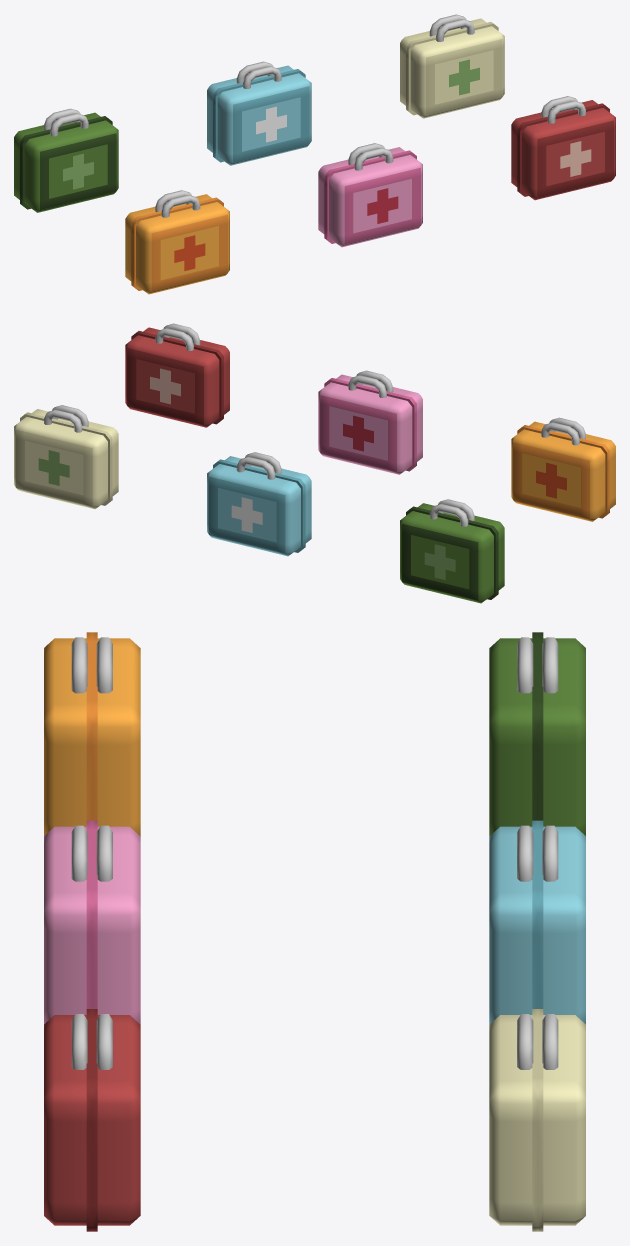
File: medkits.fbx
3 renders of one model, top to bottom at view 1: azimuth 30°, elevation 25°; view 2: azimuth 150°, elevation 25°; view 3: azimuth 270°, elevation 25°, orthographic. The views are drawn at different scales.
Parts seen in each view (by area): view 1: Medkit-Oxygen, Medkit-Burn, Medkit-Advanced, Medkit, Medkit-Brute, Medkit-Toxin; view 2: Medkit-Brute, Medkit, Medkit-Toxin, Medkit-Oxygen, Medkit-Advanced, Medkit-Burn; view 3: Medkit, Medkit-Advanced, Medkit-Oxygen, Medkit-Brute, Medkit-Toxin, Medkit-Burn.
Part boxes in pixels (x1=…): Medkit-Oxygen: x1=207, y1=61, x2=311, y2=165; Medkit-Burn: x1=125, y1=190, x2=229, y2=294; Medkit-Advanced: x1=511, y1=96, x2=615, y2=200; Medkit: x1=400, y1=14, x2=504, y2=118; Medkit-Brute: x1=318, y1=143, x2=422, y2=247; Medkit-Toxin: x1=14, y1=108, x2=118, y2=212; Medkit-Brute: x1=318, y1=370, x2=422, y2=474; Medkit: x1=14, y1=405, x2=118, y2=509; Medkit-Toxin: x1=400, y1=499, x2=504, y2=603; Medkit-Oxygen: x1=207, y1=452, x2=311, y2=556; Medkit-Advanced: x1=125, y1=323, x2=229, y2=427; Medkit-Burn: x1=511, y1=417, x2=615, y2=521; Medkit: x1=489, y1=1009, x2=585, y2=1231; Medkit-Advanced: x1=44, y1=1009, x2=140, y2=1231; Medkit-Oxygen: x1=489, y1=820, x2=585, y2=1024; Medkit-Brute: x1=44, y1=820, x2=140, y2=1024; Medkit-Toxin: x1=489, y1=632, x2=585, y2=835; Medkit-Burn: x1=44, y1=632, x2=140, y2=835.
Size of the model in its own units: 2.47 by 0.4211 by 1.22.
